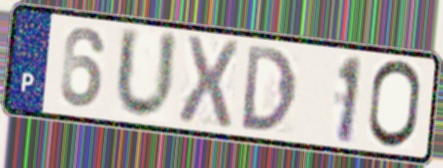1: (335, 53, 365, 147)
6: (58, 25, 109, 111)
D: (240, 43, 300, 135)
O: (365, 57, 425, 153)
U: (112, 23, 181, 124)
X: (175, 32, 242, 131)
